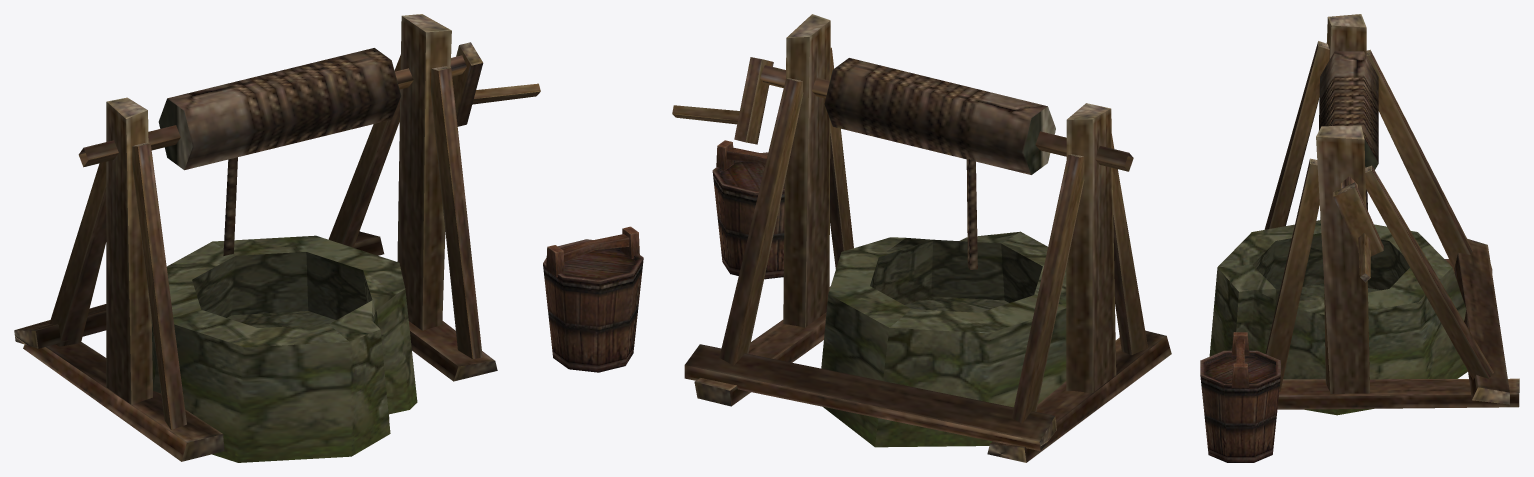
File: JJS_QY_ShuiJing.FBX
The picture shows the model from 3 angles, left to right: view 1: azimuth 30°, elevation 25°; view 2: azimuth 150°, elevation 25°; view 3: azimuth 270°, elevation 25°; orthographic projection. The views are drawn at different scales.
Visible parts, largest first — view 1: JJS_QY_ShuiJing01, JJS_QY_ShuiJing02, JJS_QY_ShuiTong; view 2: JJS_QY_ShuiJing01, JJS_QY_ShuiJing02, JJS_QY_ShuiTong; view 3: JJS_QY_ShuiJing01, JJS_QY_ShuiJing02, JJS_QY_ShuiTong.
Boxes of the visible parts, box(x1,y1,x2,y2) form: JJS_QY_ShuiJing01: box(14, 14, 540, 461); JJS_QY_ShuiJing02: box(151, 235, 417, 462); JJS_QY_ShuiTong: box(543, 226, 643, 372); JJS_QY_ShuiJing01: box(672, 14, 1171, 462); JJS_QY_ShuiJing02: box(821, 231, 1066, 447); JJS_QY_ShuiTong: box(712, 140, 784, 279); JJS_QY_ShuiJing01: box(1253, 14, 1519, 409); JJS_QY_ShuiJing02: box(1209, 220, 1467, 415); JJS_QY_ShuiTong: box(1200, 332, 1280, 462).
Size of the model in its own units: 430 by 288 by 284.
